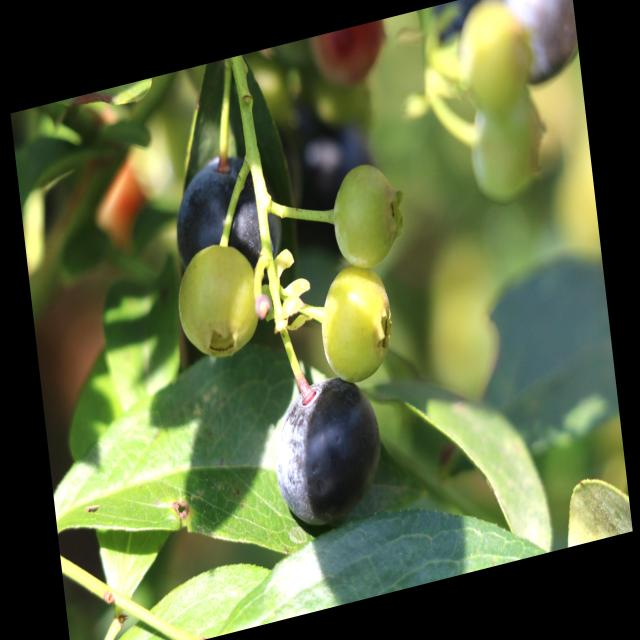blueberry: (268, 366, 391, 535), (168, 142, 290, 300)
blueberry-unripe: (171, 236, 264, 368), (314, 258, 395, 386), (461, 88, 551, 202), (454, 0, 535, 115), (327, 156, 406, 272)
